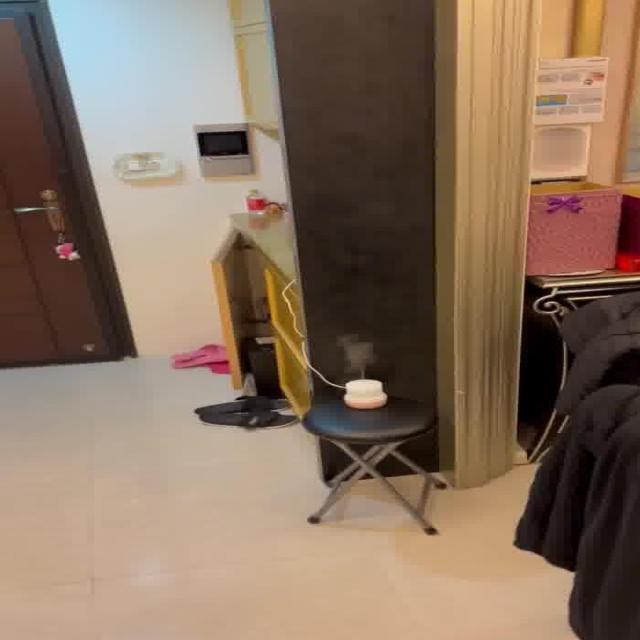fire: (334, 331, 378, 378)
